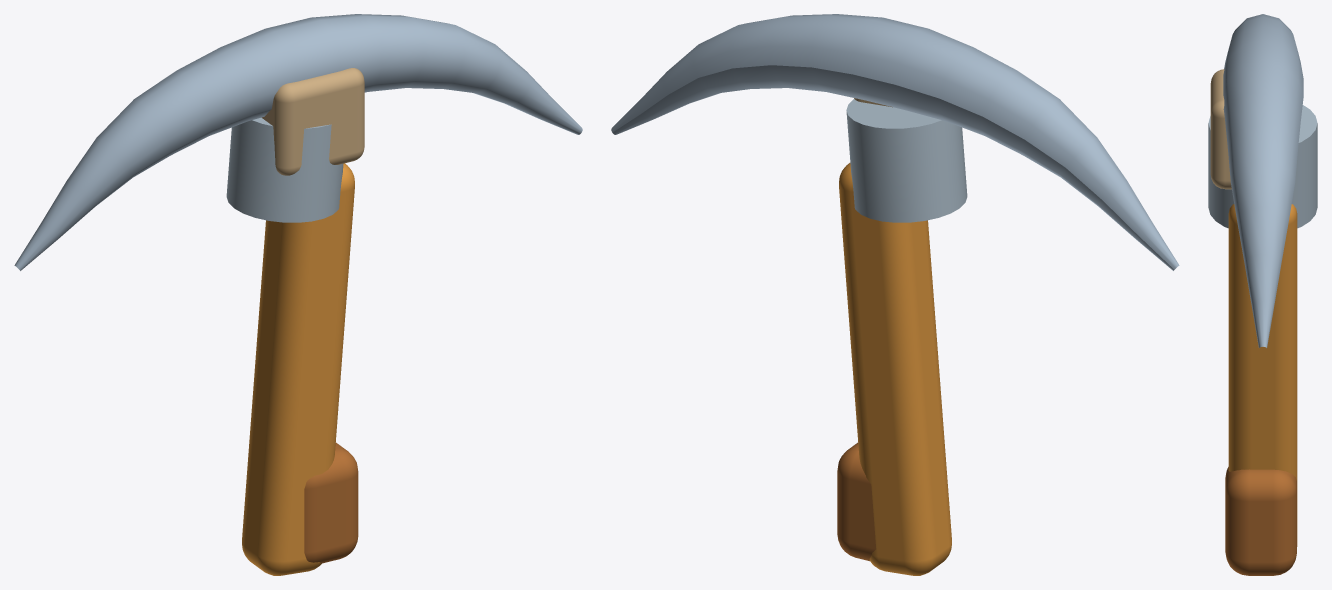
The model's file is Pickaxe.glb.
3 views of the same model, side by side, from view 1: azimuth 30°, elevation 25°; view 2: azimuth 150°, elevation 25°; view 3: azimuth 270°, elevation 25° (orthographic). The views are drawn at different scales.
Visible parts, largest first — view 1: Pickaxe; view 2: Pickaxe; view 3: Pickaxe.
Boxes of the visible parts, x1=… form: Pickaxe: x1=14, y1=14, x2=582, y2=575; Pickaxe: x1=611, y1=14, x2=1179, y2=575; Pickaxe: x1=1208, y1=14, x2=1317, y2=575.
Bounding box in the file's own units: 1.09 × 0.9903 × 0.19.
